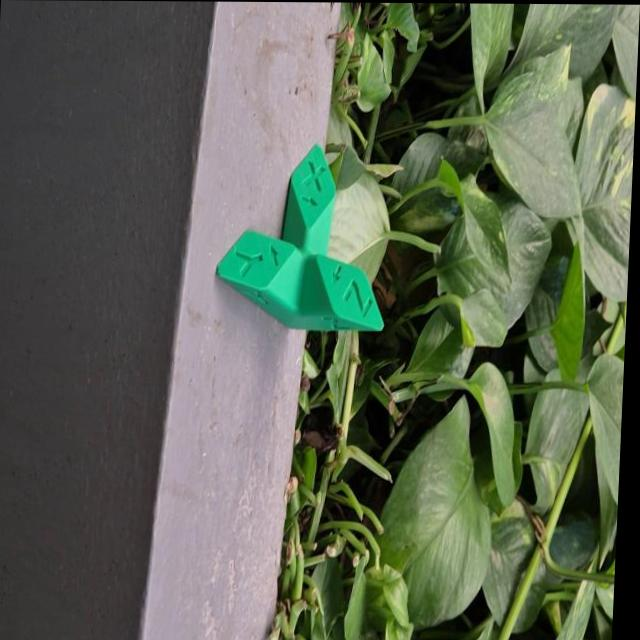eje: (211, 140, 392, 333)
